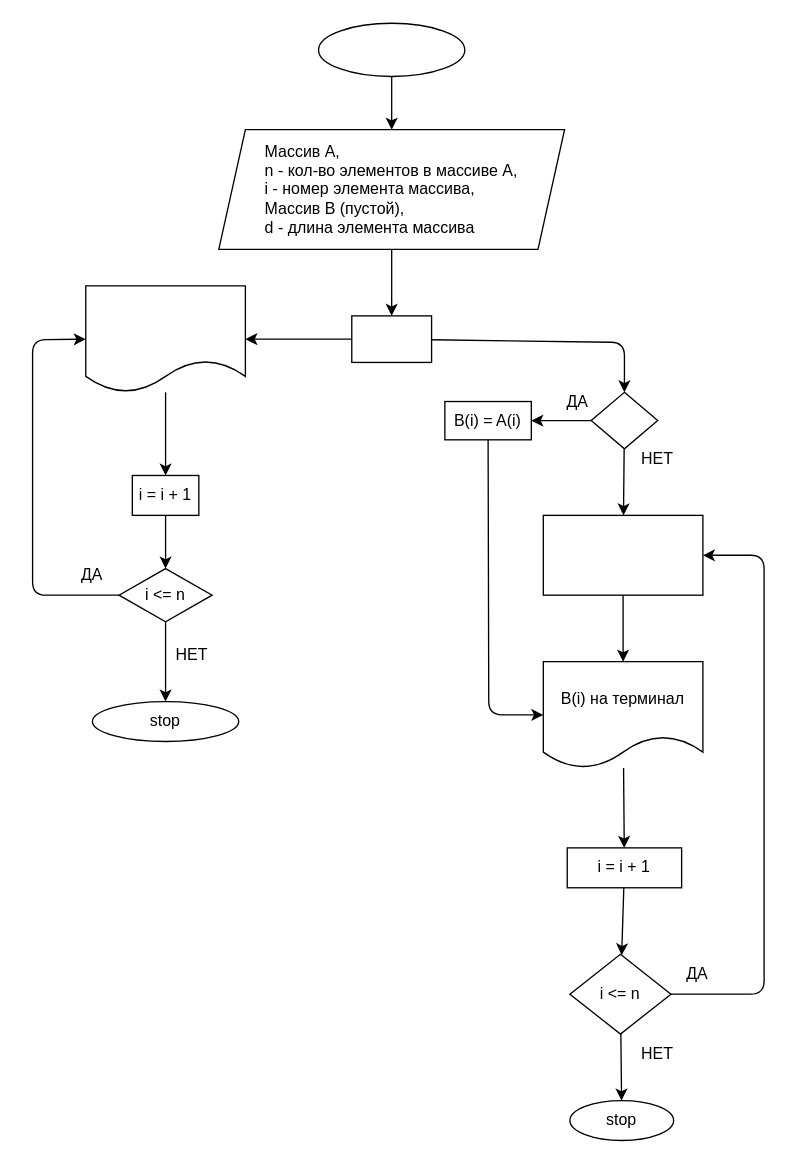
This 798x1164 diagram has some shape labels left out. The centre of each missing label's shape, as x and y in pixels:
B(i) пустое: the point at 622,554
d <= 3: the point at 624,420
i = 0: the point at 391,338
start: the point at 391,49
А (i) на терминал: the point at 164,338
